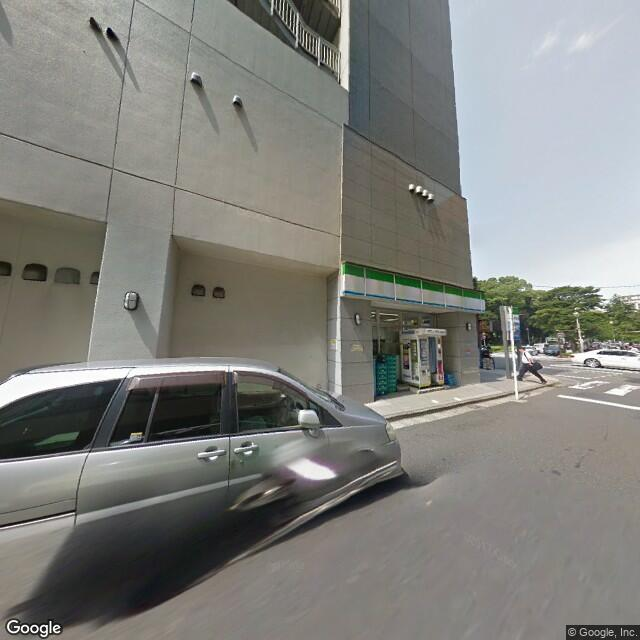family_mart: (344, 265, 484, 314)
